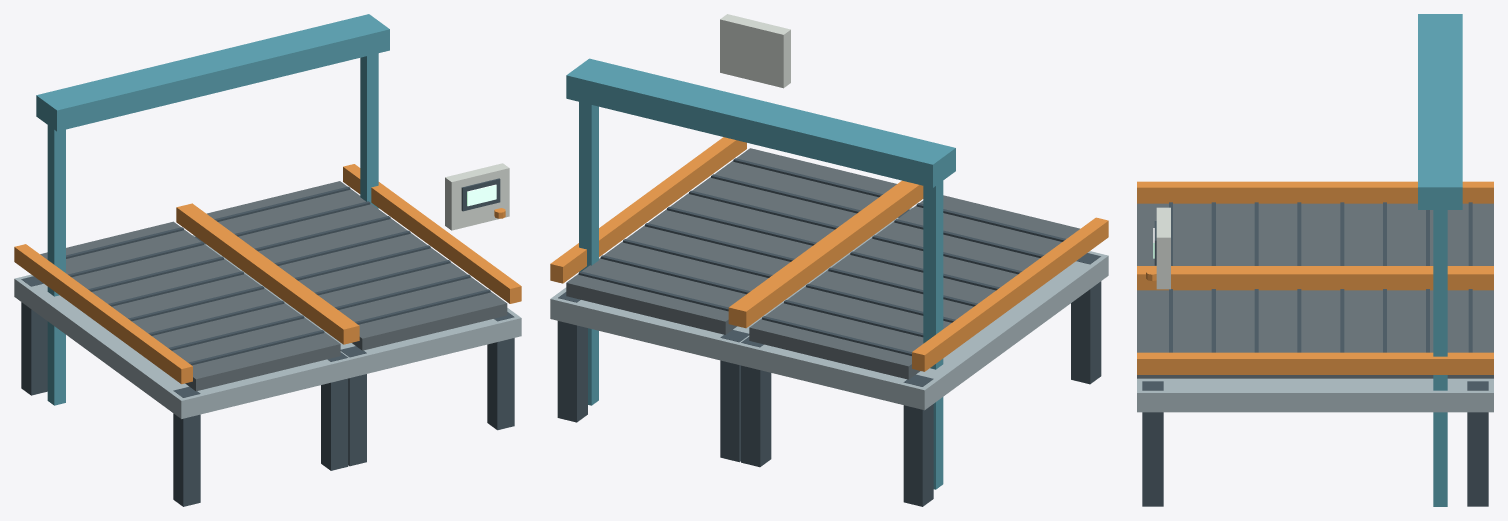
The model's file is conveyor-merging-station.glb.
The picture shows the model from 3 angles, left to right: view 1: azimuth 30°, elevation 25°; view 2: azimuth 150°, elevation 25°; view 3: azimuth 270°, elevation 25°; orthographic projection. The views are drawn at different scales.
Visible parts, largest first — view 1: rubber, dark, blue, orange, steel, cream; view 2: rubber, blue, dark, steel, orange, cream; view 3: rubber, orange, blue, steel, dark, cream.
Boxes of the visible parts, x1,y1,x2,y2 form: rubber: (40,181,507,391); dark: (21,178,514,506); blue: (36,14,389,405); orange: (14,164,521,384); steel: (14,235,521,418); cream: (445,163,509,230); rubber: (566,148,1079,379); blue: (566,58,955,489); dark: (557,158,1101,506); steel: (550,207,1108,410); orange: (550,137,1108,371); cream: (720,14,790,88); rubber: (1137,203,1493,378); orange: (1137,181,1493,374); blue: (1418,14,1462,506); steel: (1137,378,1493,412); dark: (1142,202,1488,506); cream: (1156,207,1170,289).
Size of the model in its own units: 2.35 by 1.99 by 2.
